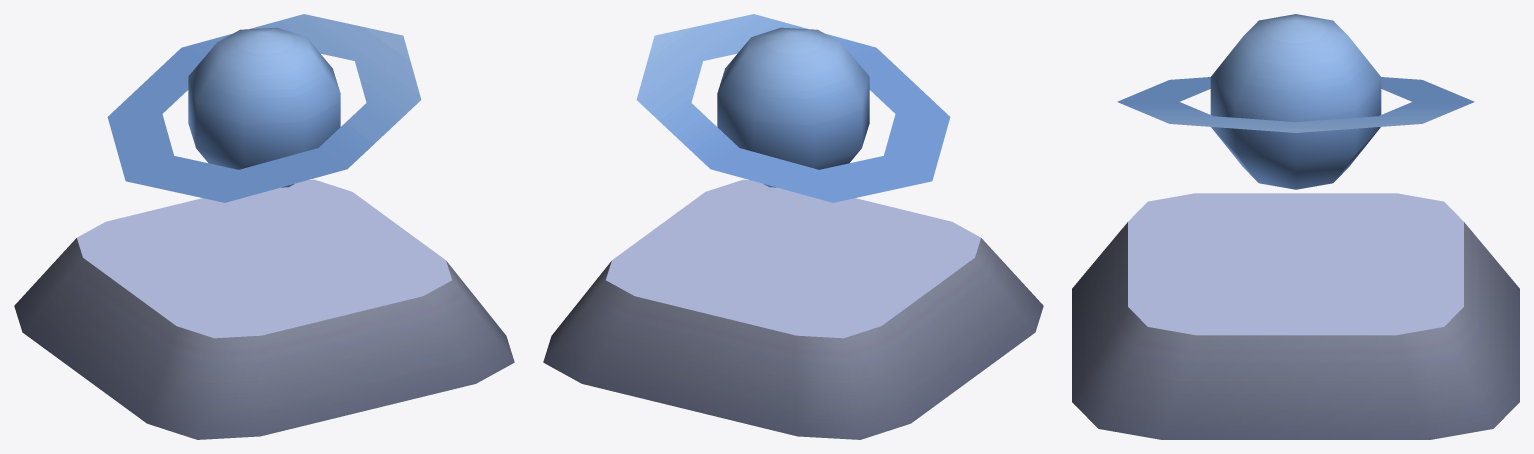
File: k-space-station-table-display-planet.glb
3 renders of one model, left to right at view 1: azimuth 30°, elevation 25°; view 2: azimuth 150°, elevation 25°; view 3: azimuth 270°, elevation 25°, orthographic. The views are drawn at different scales.
Visible parts, largest first — view 1: table-display-planet, planet-ring, planet; view 2: table-display-planet, planet-ring, planet; view 3: table-display-planet, planet, planet-ring.
Part boxes in pixels (x1,y1,x2,y2): table-display-planet: (14, 179, 514, 439); planet-ring: (107, 14, 421, 202); planet: (188, 27, 340, 187); table-display-planet: (543, 179, 1043, 439); planet-ring: (636, 14, 950, 202); planet: (717, 27, 869, 187); table-display-planet: (1072, 193, 1519, 439); planet: (1210, 14, 1381, 189); planet-ring: (1117, 77, 1474, 132).
Size of the model in its own units: 0.5 by 0.4 by 0.5.
Materials: 1 (1 with a texture image).
